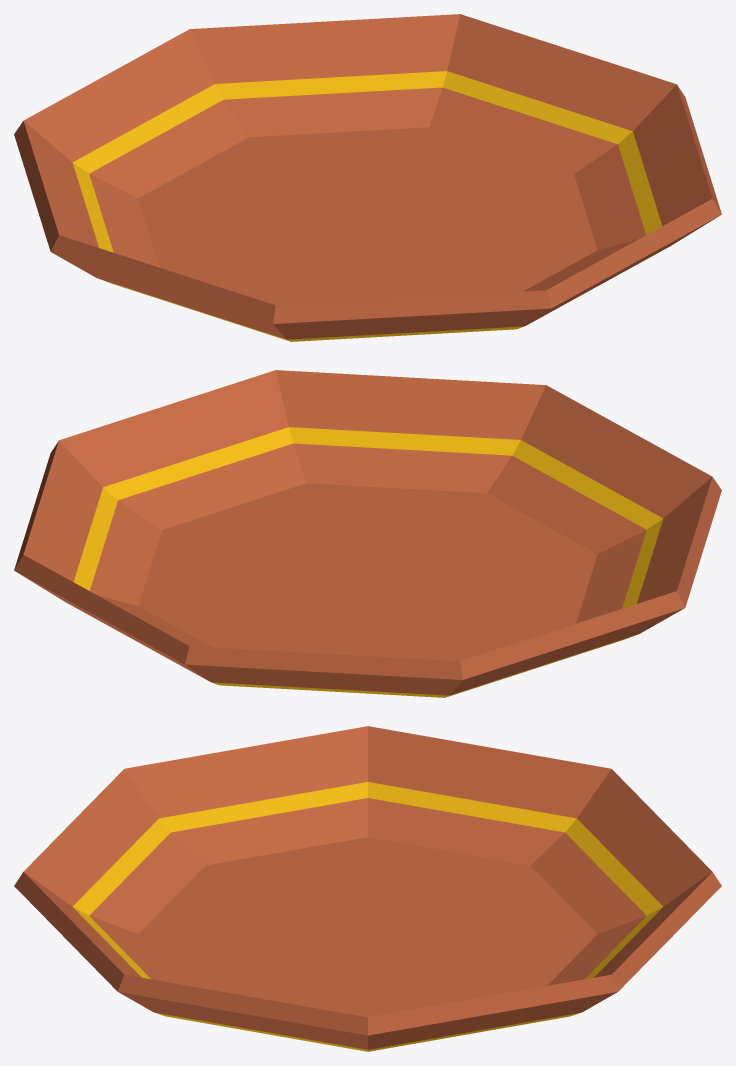
The model's file is Plato.fbx.
3 renders of one model, top to bottom at view 1: azimuth 30°, elevation 25°; view 2: azimuth 150°, elevation 25°; view 3: azimuth 270°, elevation 25°, orthographic. The views are drawn at different scales.
Parts seen in each view (by area): view 1: Plato; view 2: Plato; view 3: Plato.
Part boxes in pixels (<box>): Plato: <box>14,14,721,341</box>; Plato: <box>14,370,721,697</box>; Plato: <box>14,726,721,1051</box>.
Bounding box in the file's own units: 38.53 × 4.7 × 38.53.
